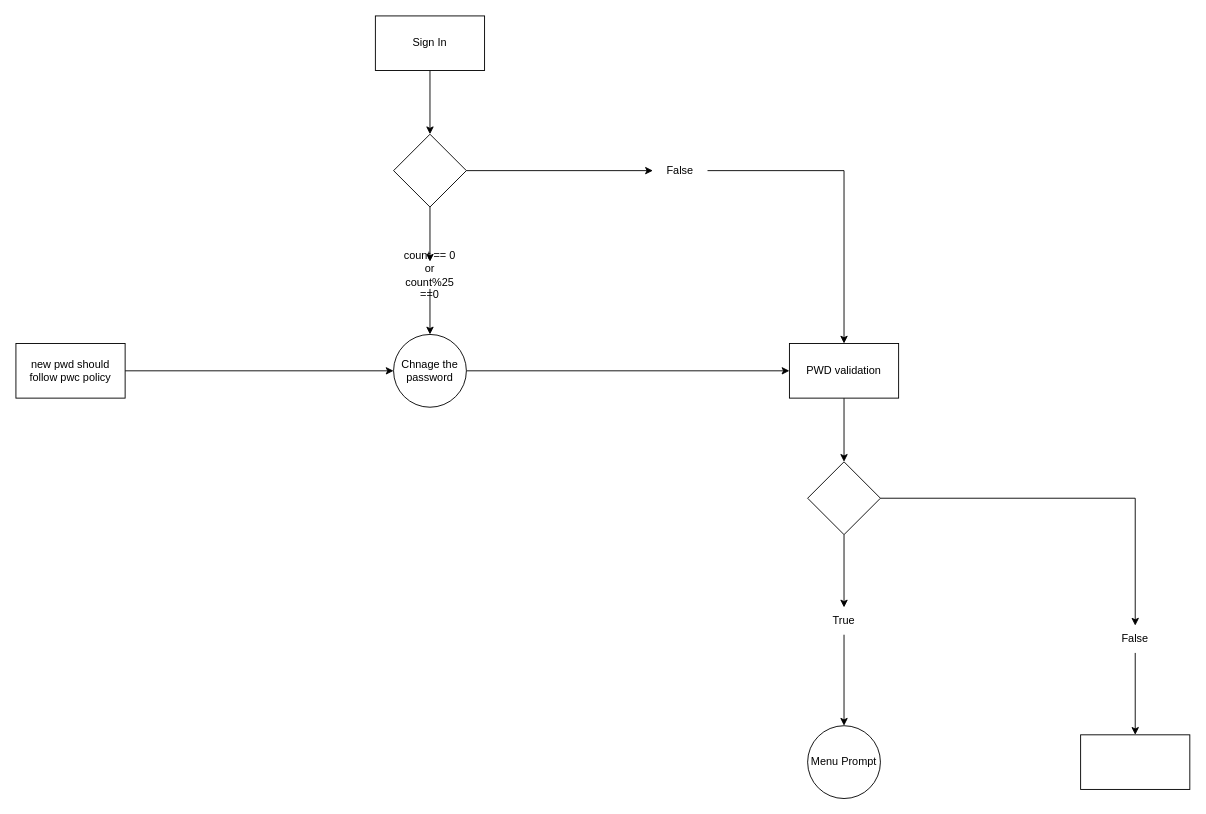
This 1206x814 diagram has some shape labels left out. Here are the shapes that lost their labels. From the top down, the centre of each, then its label:
At pixel 429 170: "singn count".
At pixel 843 498: "Success".
At pixel 1135 761: "Account blocked for 2 hours after 3 tries".
